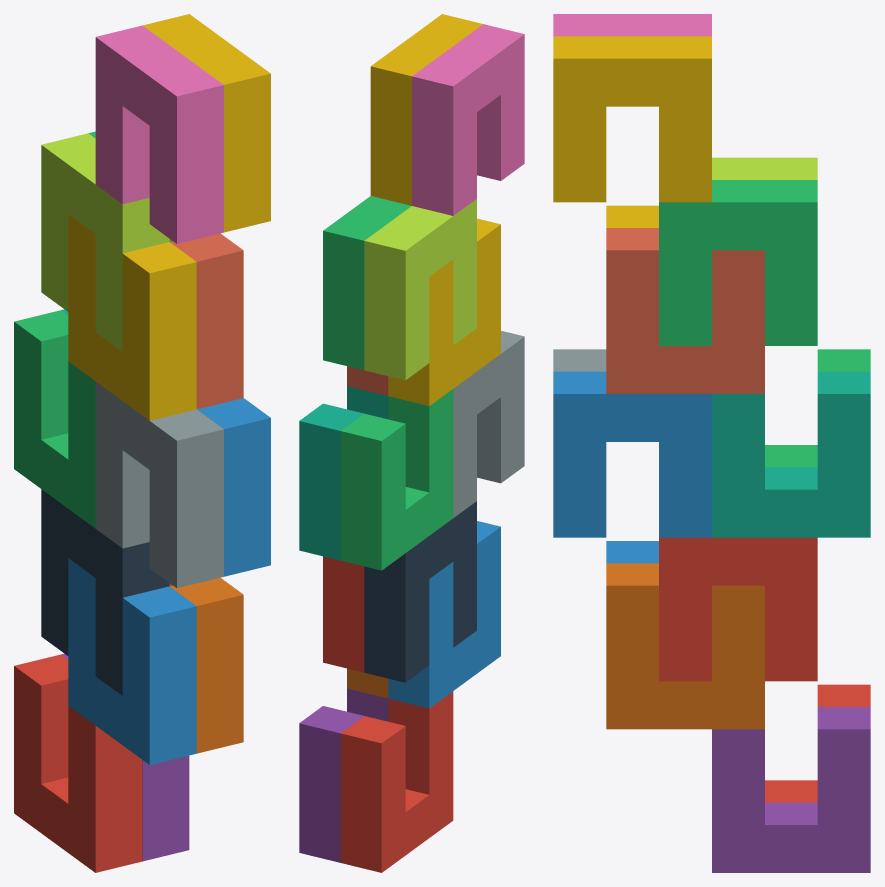
The model's file is tiling.obj.
3 renders of one model, left to right at view 1: azimuth 30°, elevation 25°; view 2: azimuth 150°, elevation 25°; view 3: azimuth 270°, elevation 25°, orthographic. The views are drawn at different scales.
Parts seen in each view (by area): view 1: copy_2_domain_4, copy_2_domain_2, copy_1_domain_1, copy_1_domain_4, copy_1_domain_2, copy_1_domain_3, copy_2_domain_3, copy_2_domain_1, copy_2_domain_8, copy_2_domain_6, copy_1_domain_6, copy_1_domain_8 (+1 smaller); view 2: copy_2_domain_4, copy_1_domain_1, copy_1_domain_3, copy_2_domain_3, copy_2_domain_1, copy_2_domain_2, copy_1_domain_4, copy_1_domain_2, copy_2_domain_8, copy_1_domain_7, copy_1_domain_5, copy_2_domain_7 (+3 smaller); view 3: copy_2_domain_8, copy_1_domain_7, copy_1_domain_5, copy_2_domain_7, copy_2_domain_6, copy_1_domain_6, copy_1_domain_8, copy_2_domain_5, copy_2_domain_4, copy_1_domain_3, copy_1_domain_1, copy_2_domain_3 (+3 smaller).
Boxes of the visible parts, <box> form: copy_2_domain_4: <box>95,25,223,243</box>; copy_2_domain_2: <box>95,381,223,588</box>; copy_1_domain_1: <box>14,654,142,872</box>; copy_1_domain_4: <box>68,214,196,420</box>; copy_1_domain_2: <box>68,558,196,764</box>; copy_1_domain_3: <box>14,310,95,528</box>; copy_2_domain_3: <box>41,133,169,351</box>; copy_2_domain_1: <box>41,489,169,695</box>; copy_2_domain_8: <box>143,14,270,232</box>; copy_2_domain_6: <box>197,398,270,576</box>; copy_1_domain_6: <box>170,577,243,753</box>; copy_1_domain_8: <box>170,233,243,409</box>; copy_2_domain_4: <box>412,24,524,215</box>; copy_1_domain_1: <box>340,691,453,872</box>; copy_1_domain_3: <box>340,389,453,570</box>; copy_2_domain_3: <box>364,199,476,380</box>; copy_2_domain_1: <box>364,501,476,682</box>; copy_2_domain_2: <box>453,330,524,517</box>; copy_1_domain_4: <box>388,218,500,405</box>; copy_1_domain_2: <box>388,521,500,708</box>; copy_2_domain_8: <box>370,14,482,205</box>; copy_1_domain_7: <box>299,386,388,560</box>; copy_1_domain_5: <box>299,688,388,862</box>; copy_2_domain_7: <box>323,196,411,370</box>; copy_2_domain_8: <box>553,36,711,202</box>; copy_1_domain_7: <box>712,371,870,537</box>; copy_1_domain_5: <box>712,707,870,872</box>; copy_2_domain_7: <box>659,180,817,345</box>; copy_2_domain_6: <box>553,371,711,537</box>; copy_1_domain_6: <box>606,563,764,729</box>; copy_1_domain_8: <box>606,228,764,393</box>; copy_2_domain_5: <box>659,537,817,681</box>; copy_2_domain_4: <box>553,14,711,36</box>; copy_1_domain_3: <box>765,349,870,467</box>; copy_1_domain_1: <box>765,684,870,802</box>; copy_2_domain_3: <box>712,157,817,179</box>.
Bounding box in the file's own units: 2 × 17 × 6.
